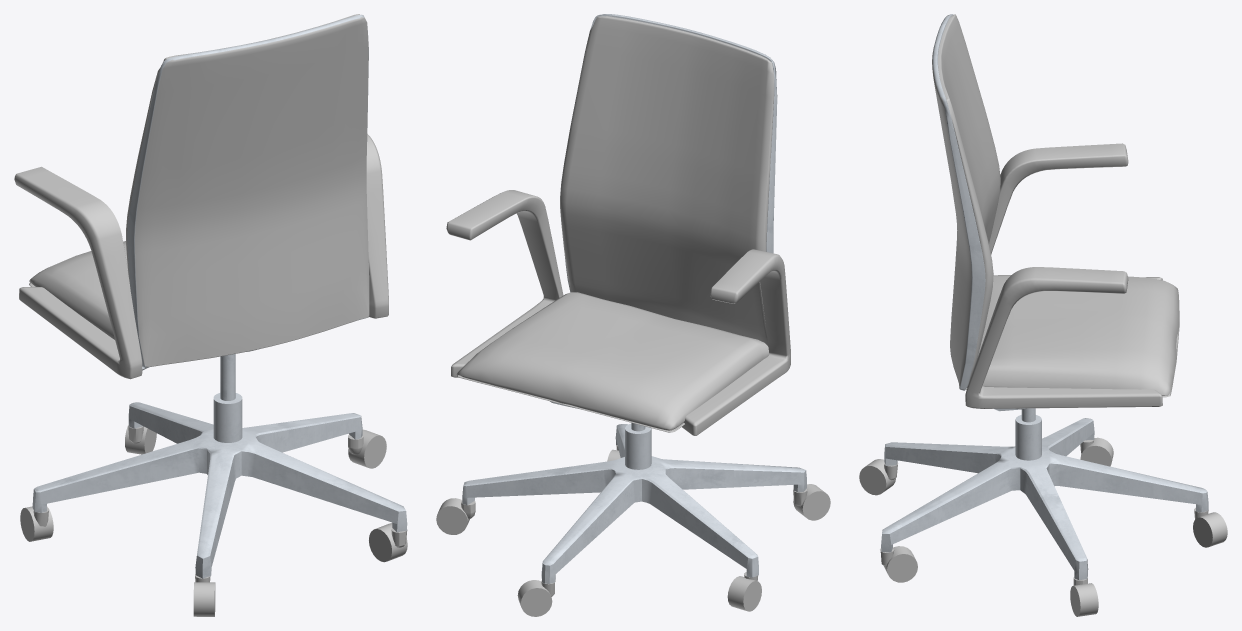
Rendered from SM_OfficeChair.fbx.
3 renders of one model, left to right at view 1: azimuth 30°, elevation 25°; view 2: azimuth 150°, elevation 25°; view 3: azimuth 270°, elevation 25°, orthographic. The views are drawn at different scales.
Parts seen in each view (by area): view 1: SM_OfficeChair_LOD0; view 2: SM_OfficeChair_LOD0; view 3: SM_OfficeChair_LOD0.
Boxes of the visible parts, x1,y1,x2,y2 form: SM_OfficeChair_LOD0: (14,14,407,616); SM_OfficeChair_LOD0: (436,14,830,616); SM_OfficeChair_LOD0: (859,14,1227,616).
Bounding box in the file's own units: 88.47 × 88.18 × 127.
